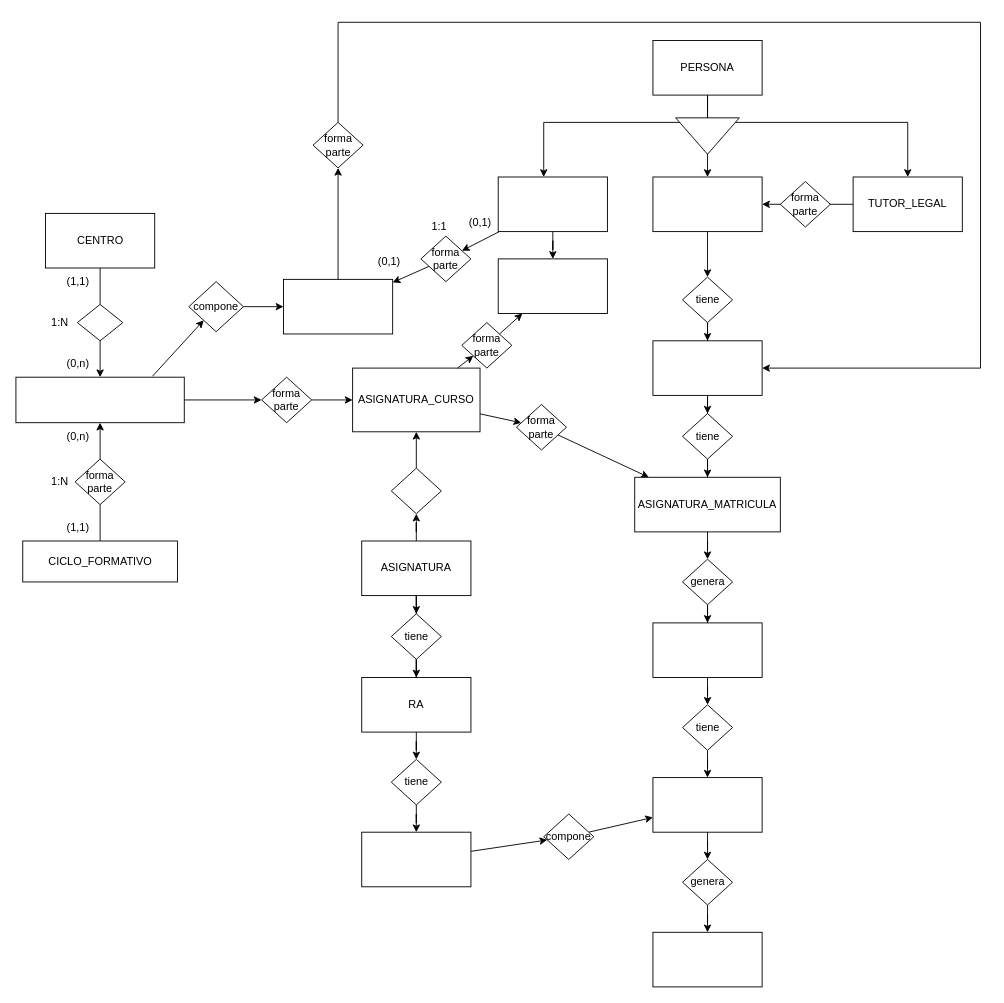
Image size: 1004x1003. Some labels were removed from this diagram. Each missing label, with the centre of its shape:
ALUMNO: point (707, 204)
CE: point (416, 859)
EVALUACIÓN: point (707, 959)
HORARIO_PROF: point (552, 285)
MATRICULA: point (707, 367)
OFERTA_EDUCATIVA_CENTRO: point (99, 399)
posee: point (99, 322)
PROFESOR: point (552, 204)
se asigna: point (415, 490)
SEGUIMIENTO: point (707, 804)
TAREA: point (707, 649)
TUTOR_CURSO: point (338, 306)
